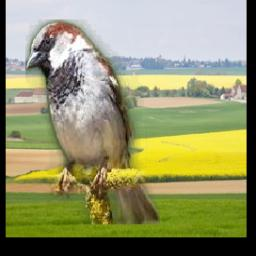Sparrow: (24, 20, 159, 224)
